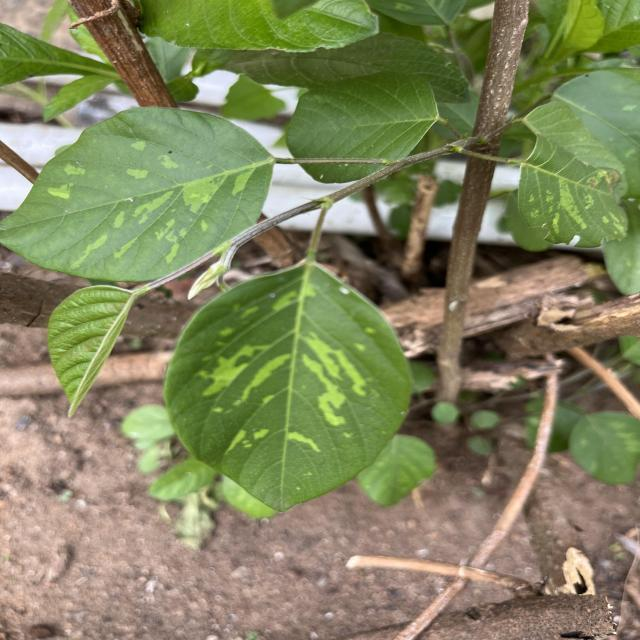Desmodium gangeticum: (0, 103, 276, 284)
